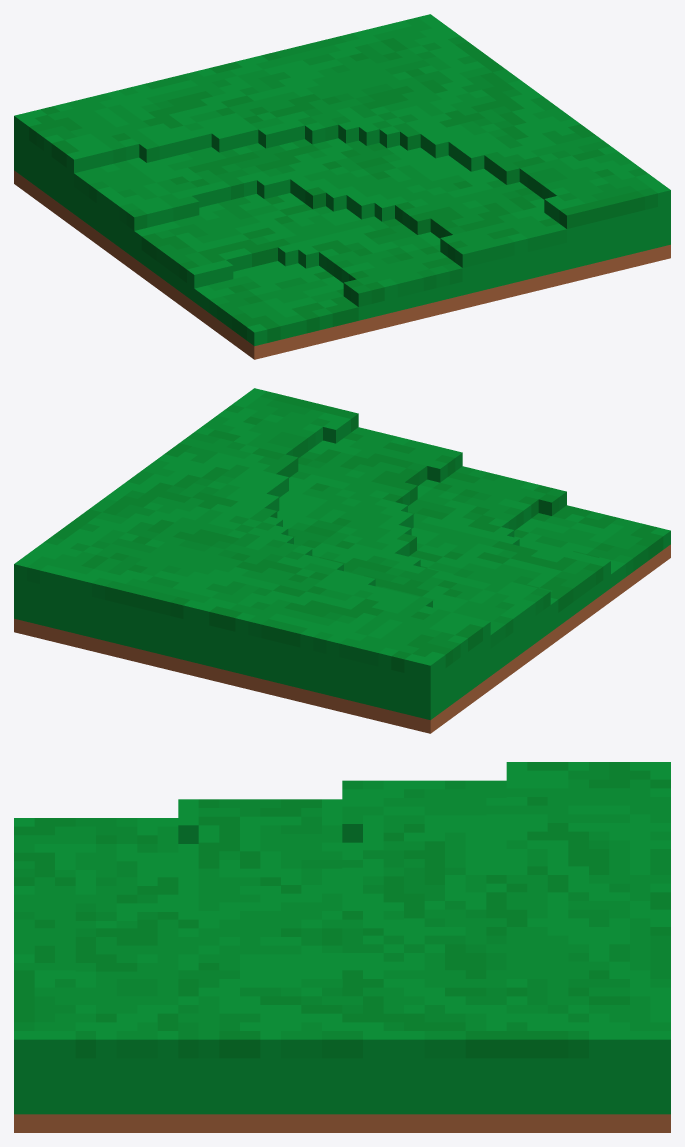
File: forest-uneven-edge-inner-1.gltf
The picture shows the model from 3 angles, top to bottom: view 1: azimuth 30°, elevation 25°; view 2: azimuth 150°, elevation 25°; view 3: azimuth 270°, elevation 25°; orthographic projection. The views are drawn at different scales.
Parts seen in each view (by area): view 1: forest-uneven-edge-inner-1_model; view 2: forest-uneven-edge-inner-1_model; view 3: forest-uneven-edge-inner-1_model.
Boxes of the visible parts, x1,y1,x2,y2 form: forest-uneven-edge-inner-1_model: [14, 14, 670, 359]; forest-uneven-edge-inner-1_model: [14, 388, 670, 733]; forest-uneven-edge-inner-1_model: [14, 762, 670, 1132].
Size of the model in its own units: 3.2 by 0.5 by 3.2.
1 material, 1 textured.
